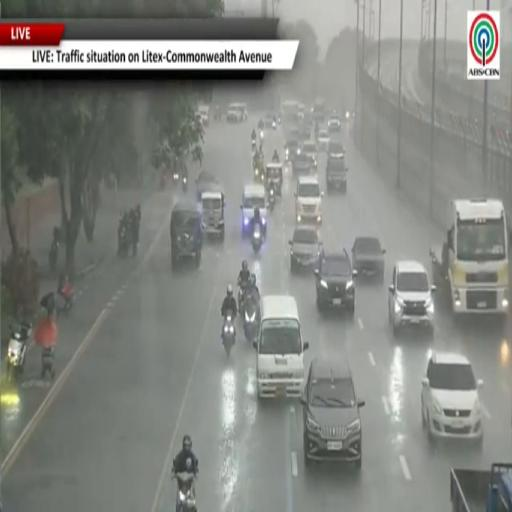car: (301, 359, 365, 470), (253, 296, 308, 398), (421, 352, 483, 441), (388, 261, 435, 334), (314, 250, 357, 316), (170, 200, 202, 269), (289, 227, 321, 273), (352, 236, 385, 280), (241, 184, 267, 236), (295, 176, 323, 223), (201, 190, 225, 241), (196, 170, 223, 201), (326, 158, 347, 194), (292, 151, 315, 174), (302, 140, 317, 168), (285, 139, 300, 162), (328, 139, 345, 159), (327, 113, 342, 132), (317, 130, 330, 151), (227, 106, 242, 123), (197, 105, 209, 125), (264, 112, 277, 129)
motorcycle: (6, 323, 32, 382), (174, 472, 196, 511), (222, 312, 236, 358), (244, 299, 258, 342), (56, 284, 74, 316), (118, 224, 133, 257), (41, 347, 55, 378), (49, 228, 59, 271), (252, 223, 262, 253), (238, 283, 247, 316), (269, 184, 276, 211), (182, 176, 188, 193), (160, 173, 166, 190), (173, 171, 179, 187), (259, 130, 264, 142), (252, 139, 256, 152), (278, 116, 281, 124)
truck: (430, 199, 509, 318), (451, 463, 511, 511)
